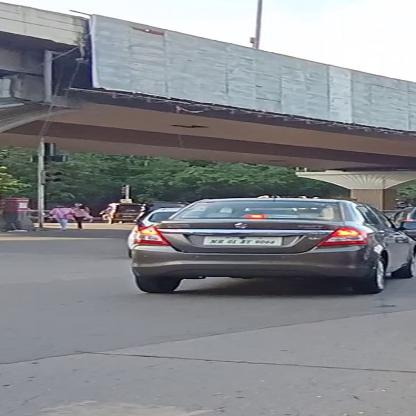license_plate: (202, 235, 282, 245)
